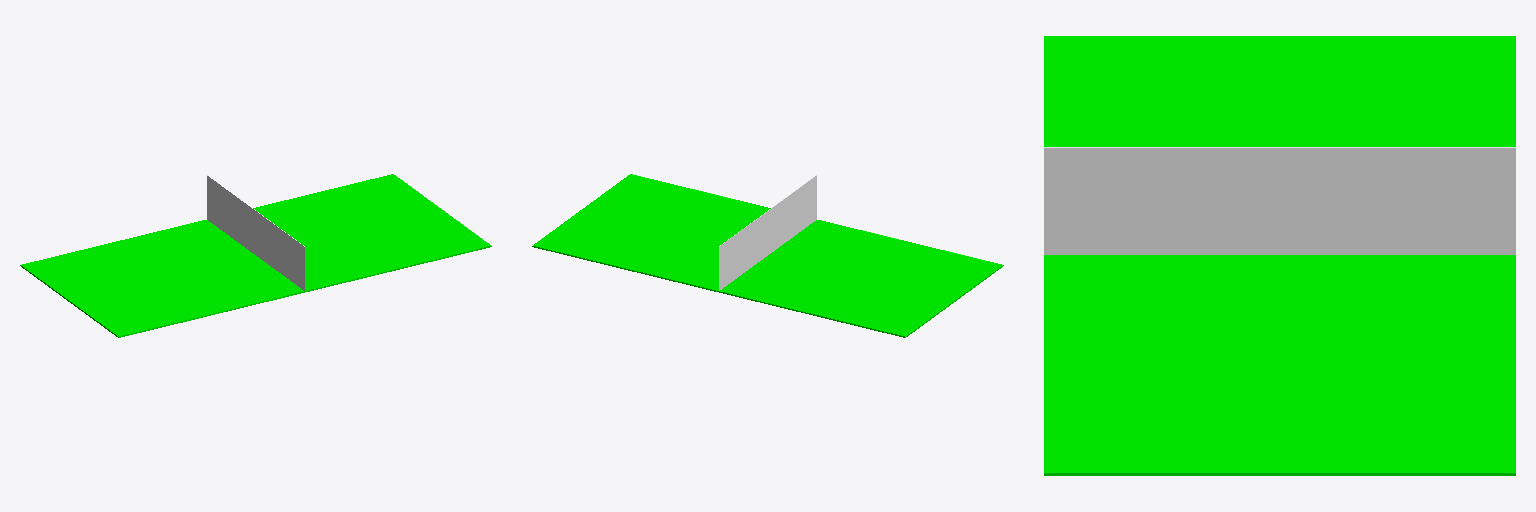
URDF robot description (badminton_court):
<?xml version="1.0"?>
<robot name="badminton_court">

  <!-- Base link (Ground of the badminton court) -->
  <link concave="yes" name="base_link">
    <inertial>
      <origin rpy="0 0 0" xyz="0 0 0"/>
       <mass value=".0"/>
       <inertia ixx="0" ixy="0" ixz="0" iyy="0" iyz="0" izz="0"/>
    </inertial>

    <visual>
      <geometry>
        <box size="13.4 6.1 0.05"/>
      </geometry>
      <material name="green">
        <color rgba="0 1 0 1.0"/>
      </material>
    </visual>

    <collision concave="yes">
      <origin rpy="0 0 0" xyz="0 0 0"/>
      <geometry>
				<box size="13.4 6.1 0.05"/>
      </geometry>
    </collision>

  </link>



  <!-- Net link -->
  <link name="net_link">
    <visual>
      <geometry>
        <box size="0.02 6.1 1.55"/>
      </geometry>
      <material name="white">
        <color rgba="1 1 1 1.0"/>
      </material>
    </visual>
  </link>



  <!-- Joint to position the net in the middle of the court -->
  <joint name="net_joint" type="fixed">
    <parent link="base_link"/>
    <child link="net_link"/>
    <origin xyz="0 0 0.775" rpy="0 0 0"/>
  </joint>

</robot>

--- Facts derived from the render (not from the file) ---
3 views of the same robot in one strip: view 1: azimuth 30°, elevation 25°; view 2: azimuth 150°, elevation 25°; view 3: azimuth 270°, elevation 25° (orthographic).
Robot: badminton_court — 2 links, 1 joints (1 fixed); root link base_link; default pose: every joint at zero.
Links seen in each view (by area): view 1: base_link, net_link; view 2: base_link, net_link; view 3: base_link, net_link.
Link boxes in pixels (left/top/right/bottom): base_link: left=20, top=174, right=491, bottom=337; net_link: left=207, top=175, right=304, bottom=290; base_link: left=532, top=174, right=1003, bottom=337; net_link: left=719, top=175, right=816, bottom=290; base_link: left=1044, top=36, right=1515, bottom=475; net_link: left=1044, top=147, right=1515, bottom=254.
Bounding box of the posed robot: 13.4 × 6.1 × 1.57 m (x, y, z).
Geometry: primitives only (box / cylinder / sphere), no mesh files.